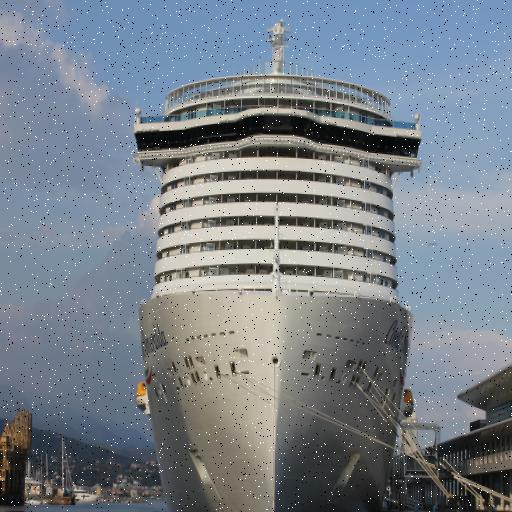cruises: (130, 16, 429, 512)
